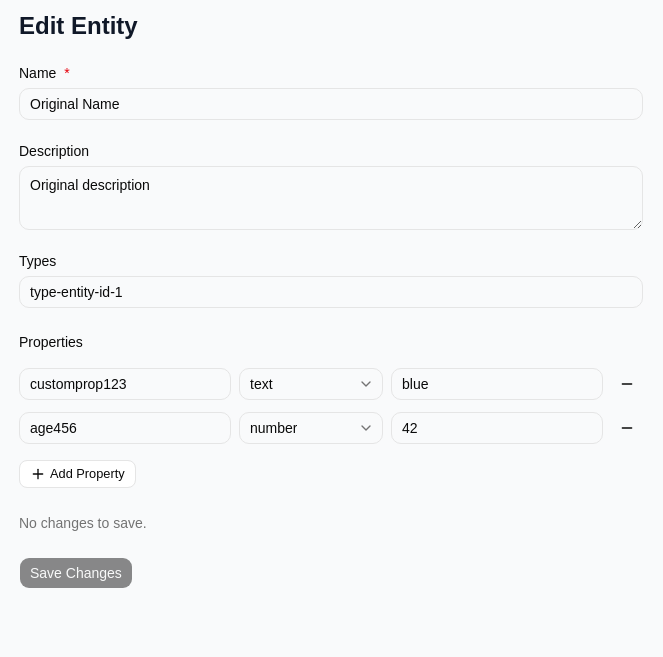
EditEntityPage › error handling › displays error with details from failed polling
The width and height of the screenshot is (663, 657).
Step 1. Replace the text in the field with test id "entity-name-input" with "Changed" → [331, 104], box [19, 88, 643, 120]
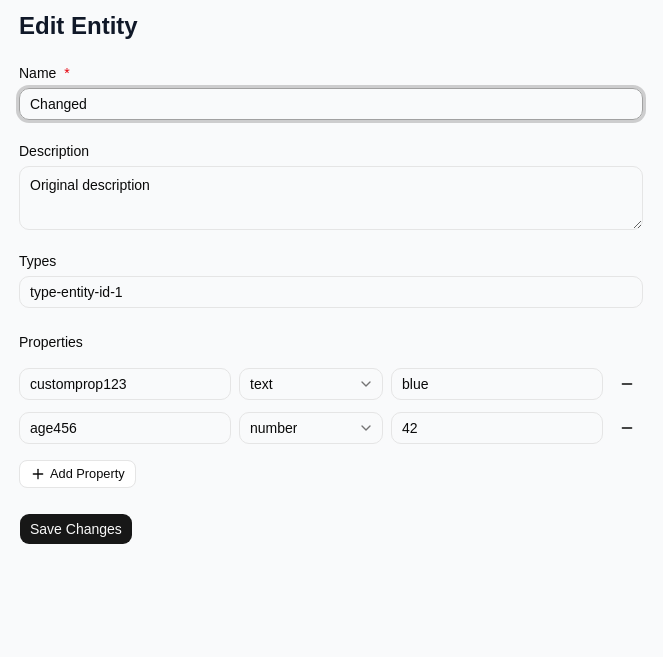
Step 2. Click the button with test id "entity-submit" → [76, 529], box [19, 513, 133, 545]
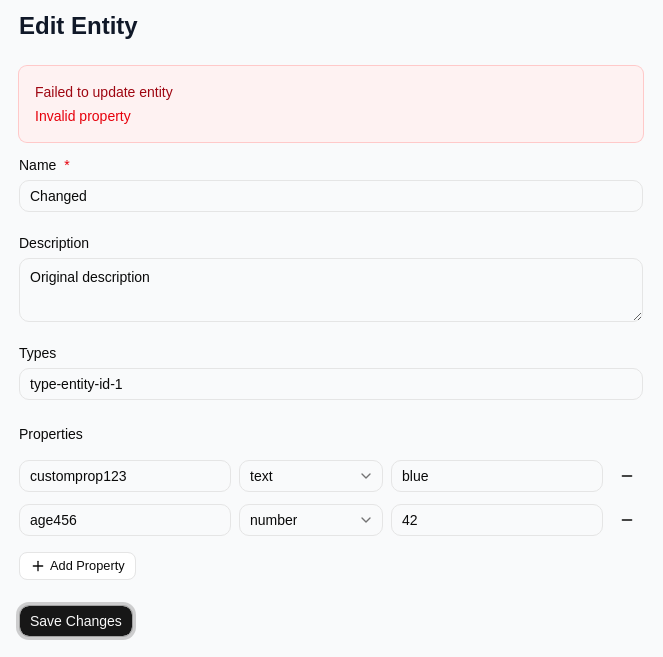
Expected: the element with test id "edit-error" is shown, [19, 66, 643, 142]
Expected: the text "Invalid property" is shown, [35, 108, 131, 124]
